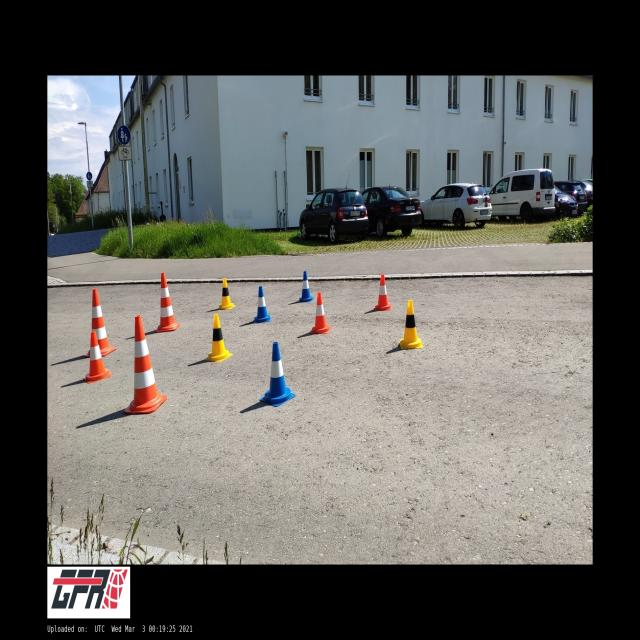blue_cone: (260, 342, 296, 407), (253, 286, 270, 323), (299, 271, 313, 302)
large_orange_cone: (124, 315, 167, 413), (84, 288, 116, 357), (155, 272, 180, 332)
orange_cone: (83, 331, 111, 384), (310, 292, 332, 334), (375, 274, 391, 310)
yellow_cone: (205, 314, 232, 362), (399, 300, 422, 349), (217, 278, 236, 310)
